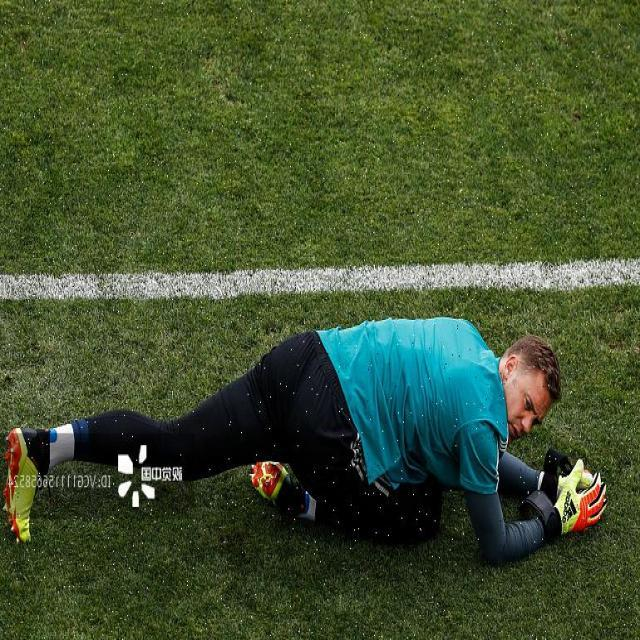fall: (24, 318, 580, 526)
